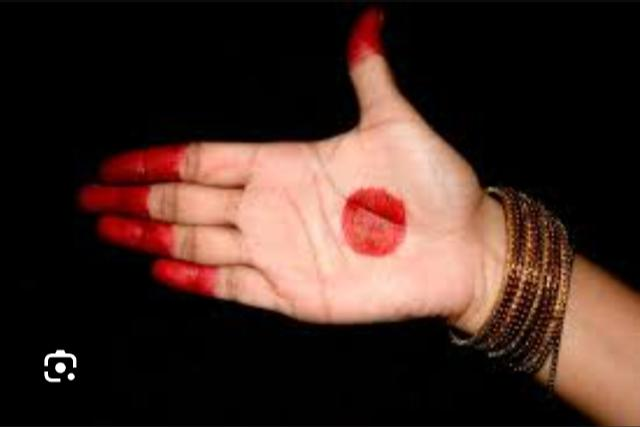ardhachandra: (63, 0, 573, 344)
